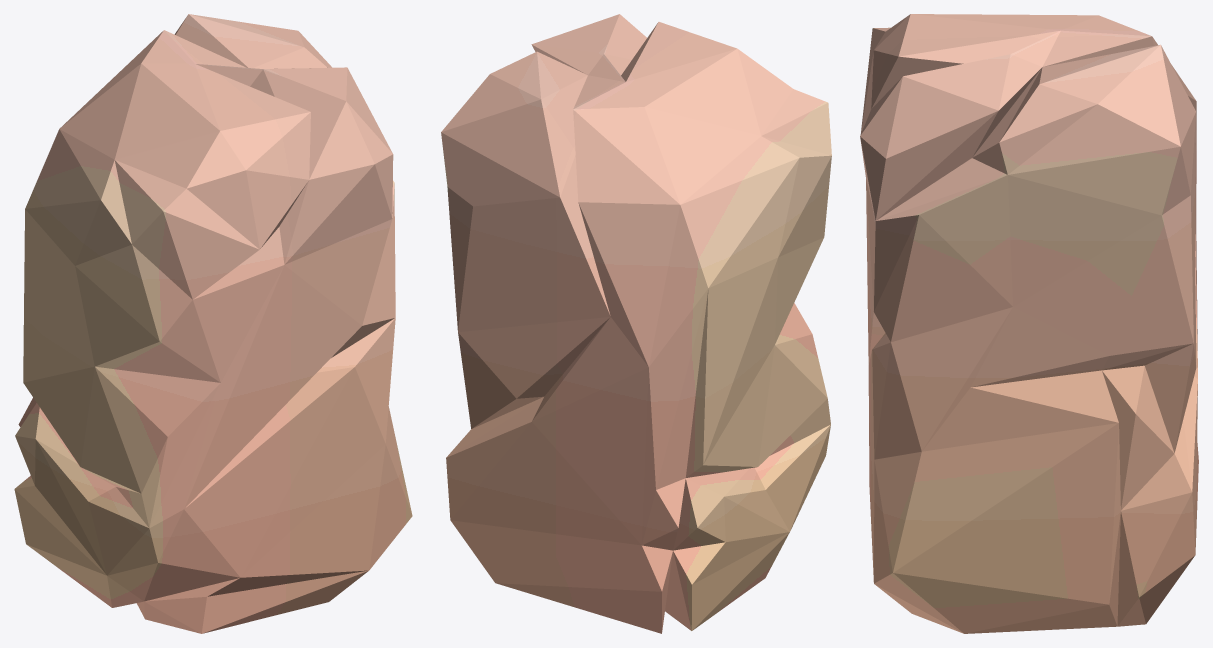
The model's file is DC_PillarRectangle2.fbx.
3 views of the same model, side by side, from view 1: azimuth 30°, elevation 25°; view 2: azimuth 150°, elevation 25°; view 3: azimuth 270°, elevation 25° (orthographic). The views are drawn at different scales.
Visible parts, largest first — view 1: PillarRectangle2; view 2: PillarRectangle2; view 3: PillarRectangle2.
Boxes of the visible parts, box(x1,y1,x2,y2) form: PillarRectangle2: box(14, 14, 412, 633); PillarRectangle2: box(441, 14, 831, 633); PillarRectangle2: box(860, 14, 1198, 633).
Bounding box in the file's own units: 1.51 × 2.65 × 1.47.
Materials: 1 (1 with a texture image).
